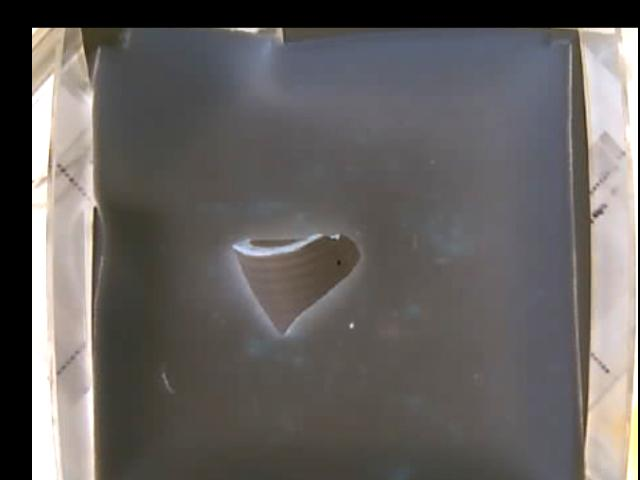China: (232, 231, 361, 337)
